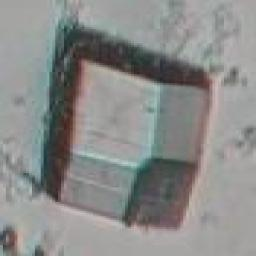crystals: (50, 45, 212, 233)
